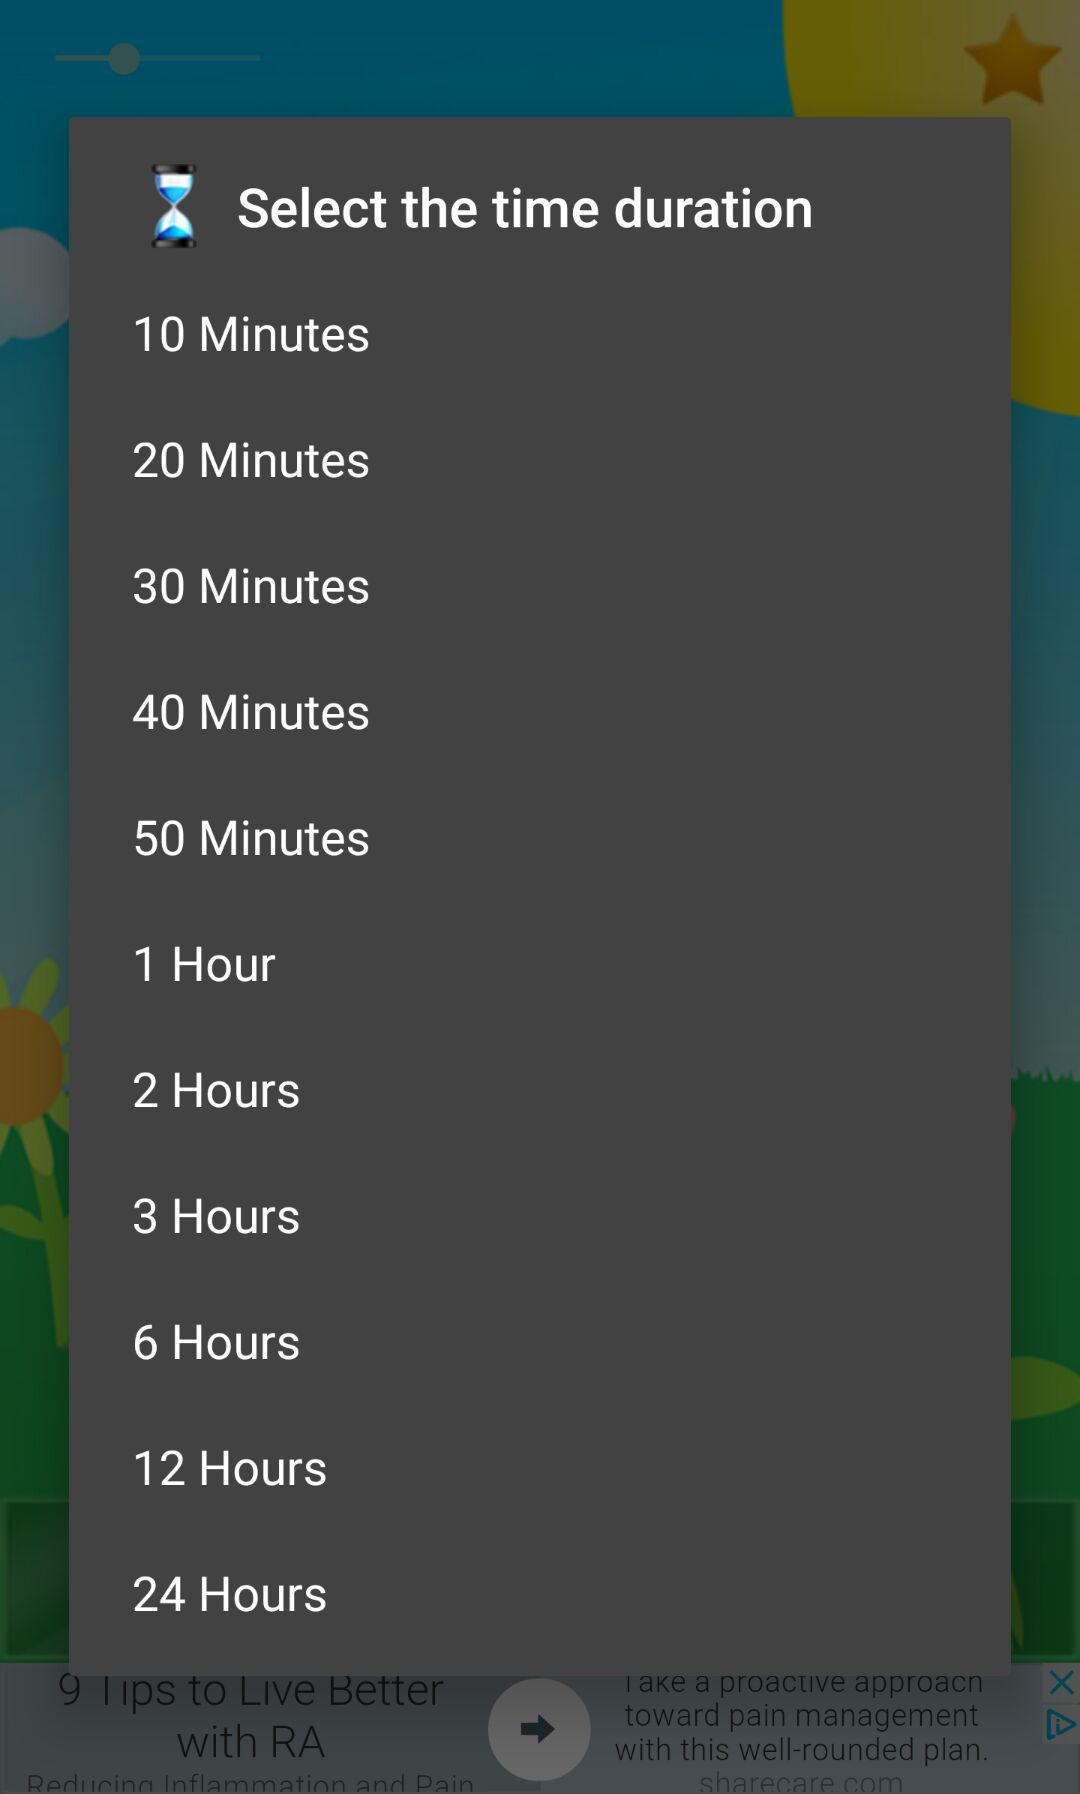Image: (149, 163, 199, 250)
Modal: (69, 117, 1012, 1676)
Text: (238, 186, 814, 231), (135, 819, 370, 859), (133, 441, 370, 479), (133, 693, 370, 732), (135, 315, 370, 354), (135, 566, 370, 605), (135, 1575, 328, 1613), (135, 1449, 328, 1486), (133, 1197, 301, 1237), (135, 1322, 301, 1362), (135, 1071, 300, 1108), (135, 944, 277, 983)
